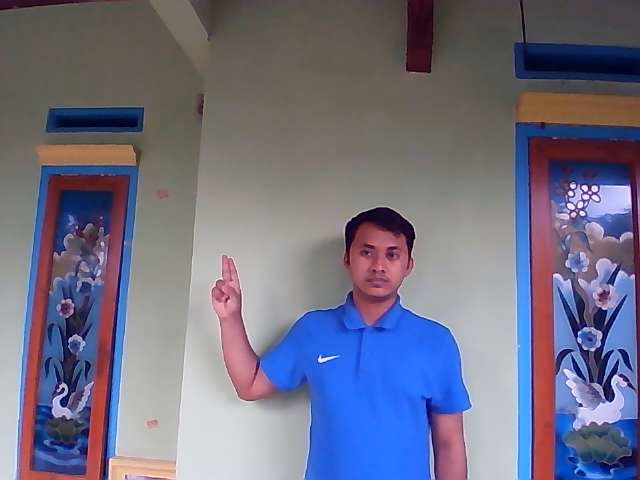U: (209, 253, 242, 317)
